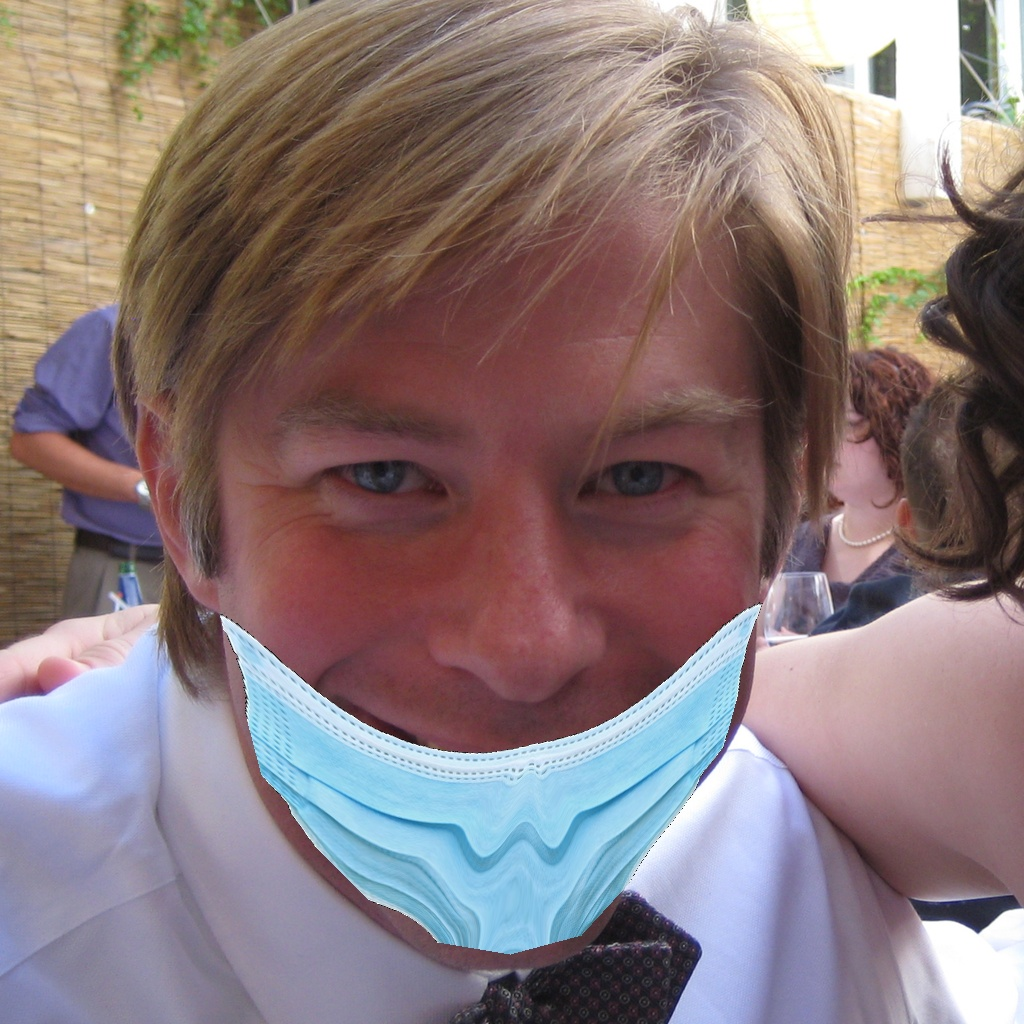mascarilla_mal_puesta: (159, 328, 832, 970)
